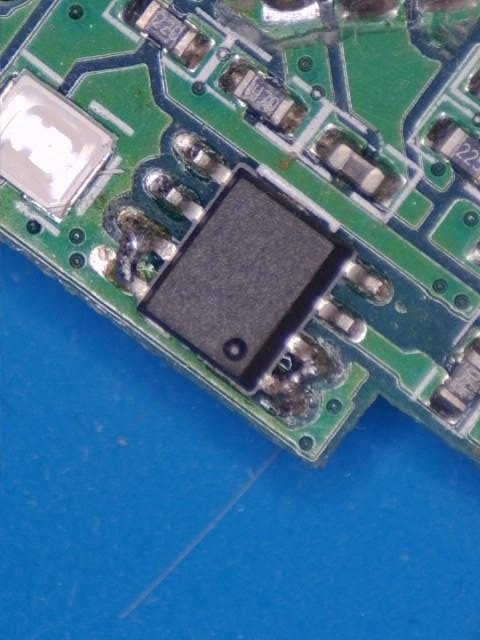pcb_defect: (90, 210, 180, 301), (255, 334, 329, 413)
